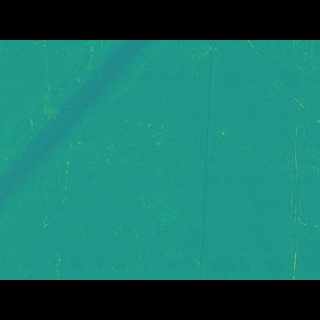Loch: (0, 70, 169, 207), (17, 223, 319, 249), (185, 68, 225, 250)
